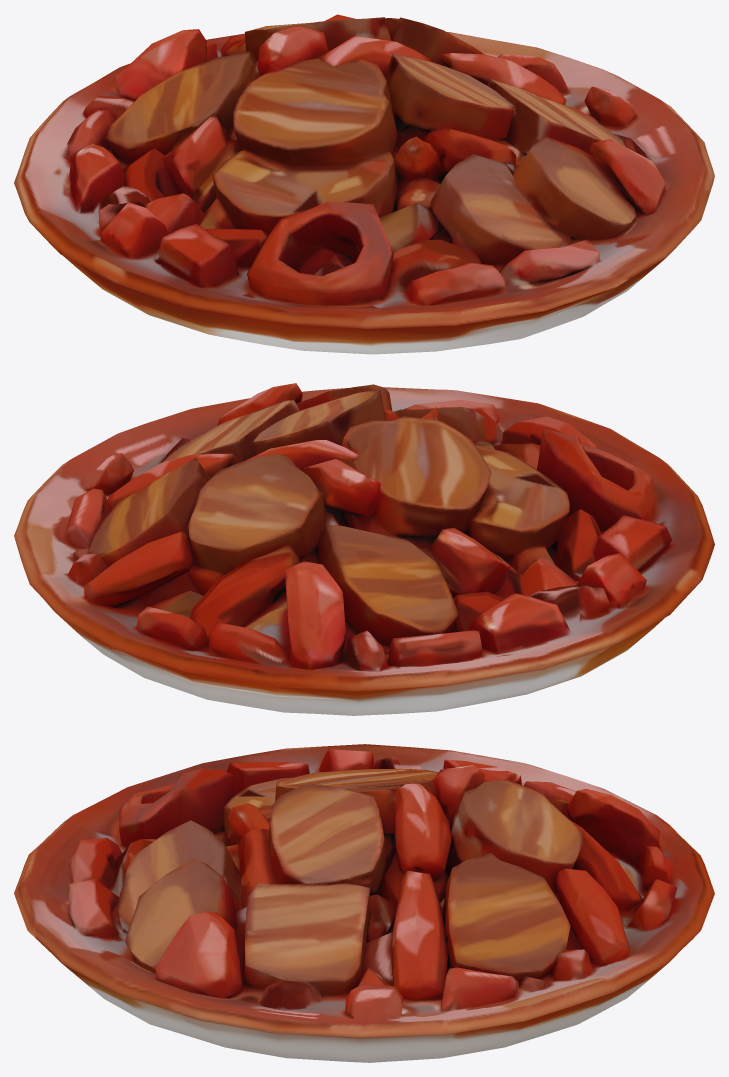
Rendered from base_basic_shaded.fbx.
3 renders of one model, top to bottom at view 1: azimuth 30°, elevation 25°; view 2: azimuth 150°, elevation 25°; view 3: azimuth 270°, elevation 25°, orthographic. The views are drawn at different scales.
Parts seen in each view (by area): view 1: model; view 2: model; view 3: model.
Part boxes in pixels (bbox=[...]): model: bbox=[14, 14, 714, 354]; model: bbox=[14, 383, 714, 715]; model: bbox=[14, 744, 714, 1062].
Size of the model in its own units: 175 by 45.96 by 179.
